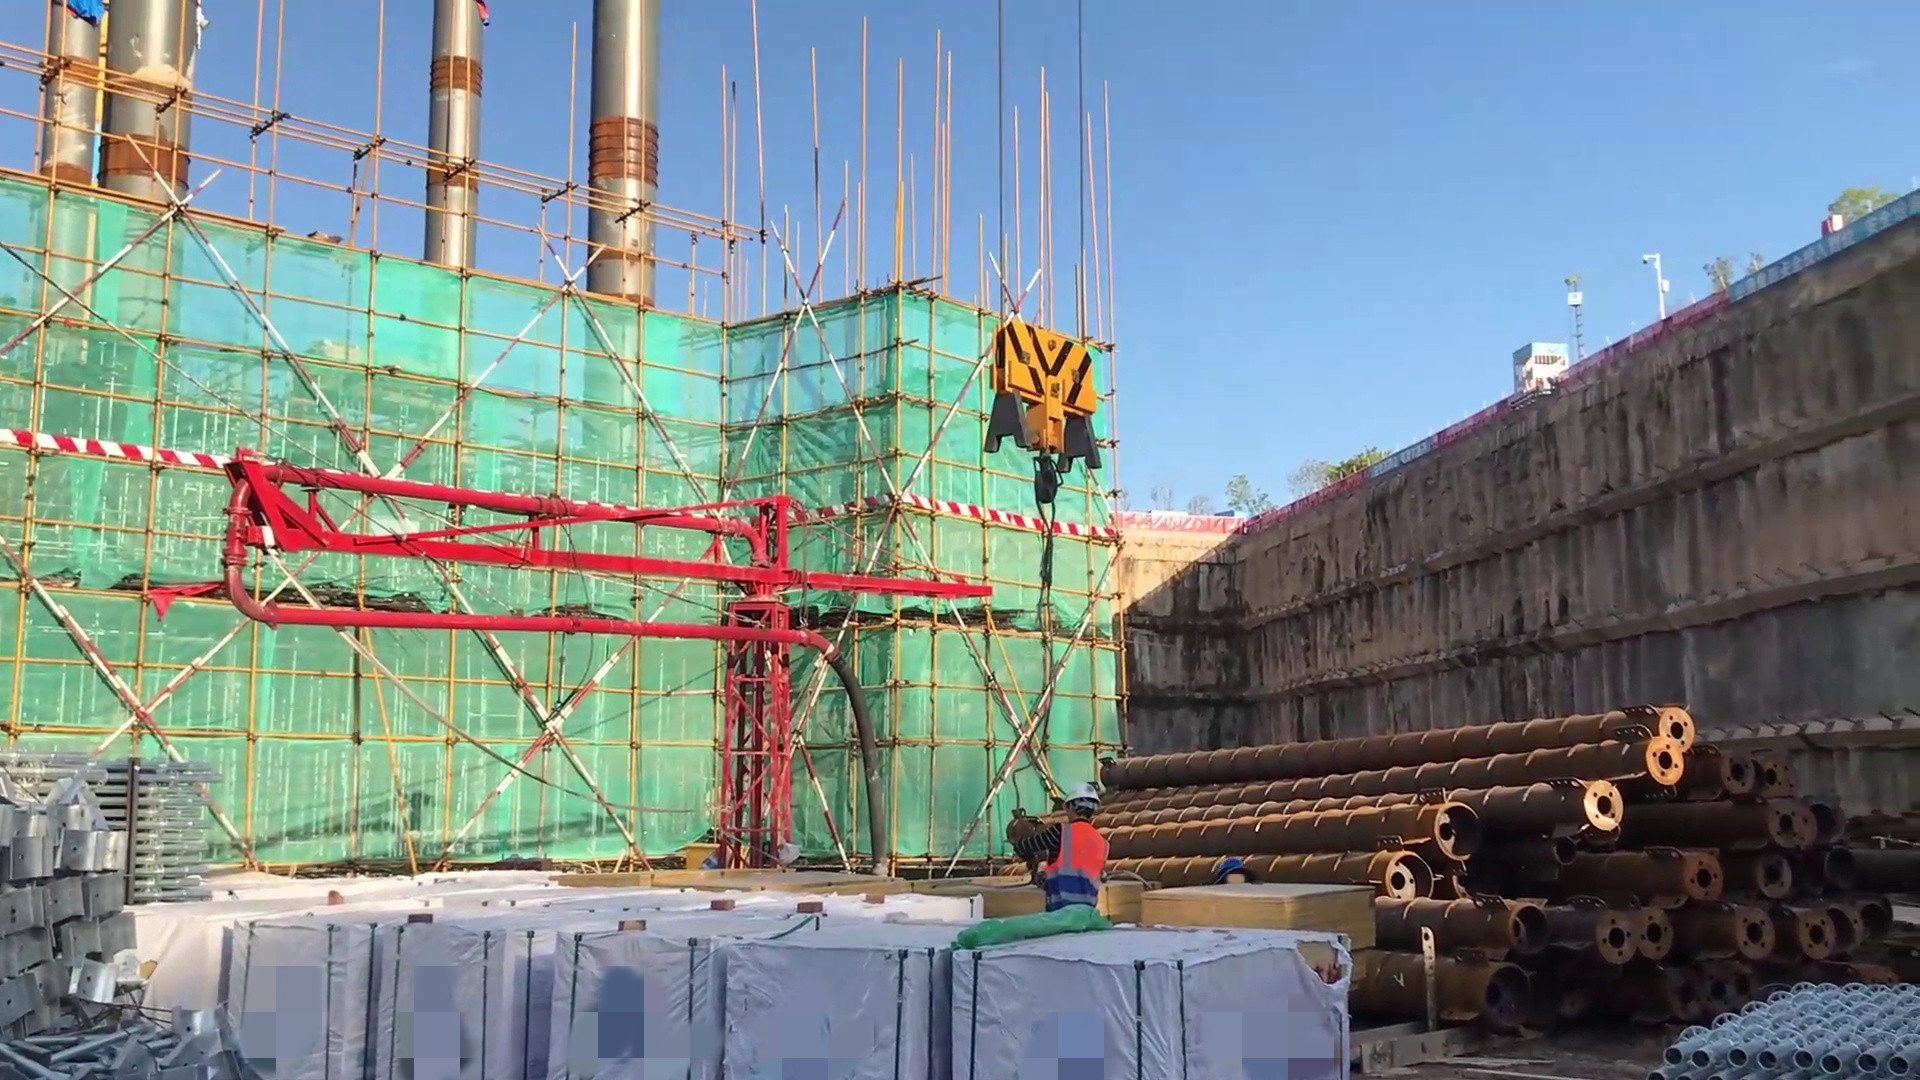board: (1134, 873, 1381, 958), (1092, 880, 1166, 925)
ebox: (673, 835, 743, 891)
helmet: (1055, 777, 1106, 824), (1211, 851, 1258, 897)
hook: (972, 303, 1113, 557)
person: (996, 786, 1123, 934)
scaffold: (1650, 959, 1920, 1080), (95, 744, 233, 898)
slogan: (1729, 191, 1920, 313), (1363, 431, 1452, 487)
vest: (1032, 810, 1122, 927)
